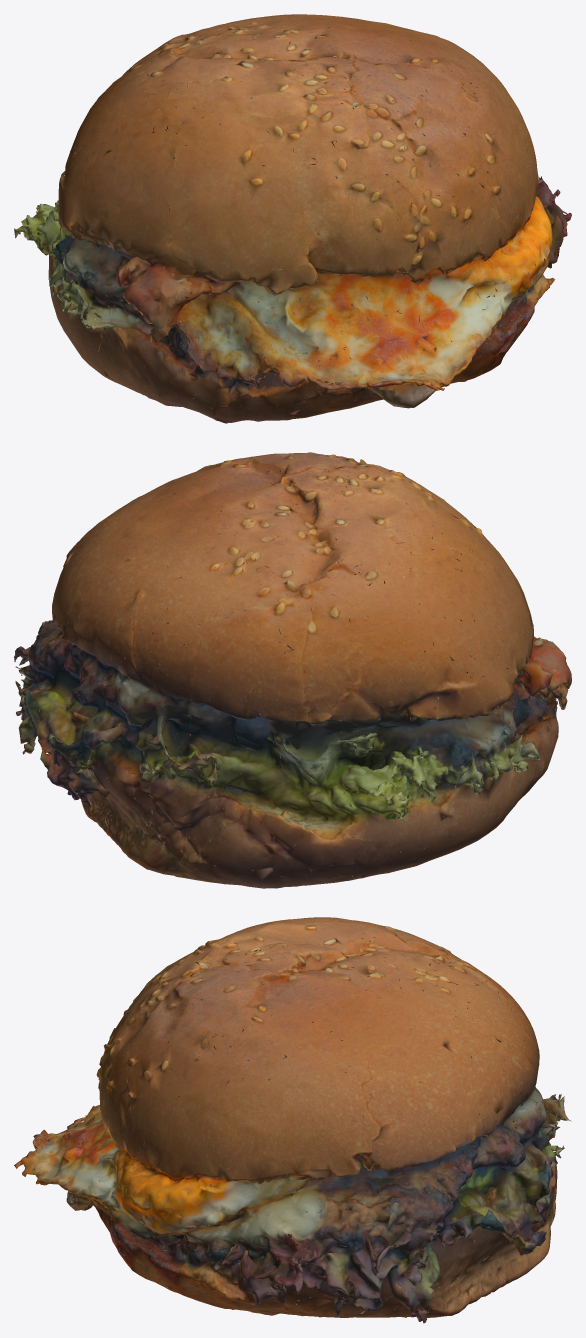
The model's file is burger-artesanal-8k.glb.
3 views of the same model, one above another, from view 1: azimuth 30°, elevation 25°; view 2: azimuth 150°, elevation 25°; view 3: azimuth 270°, elevation 25° (orthographic). The views are drawn at different scales.
Visible parts, largest first — view 1: Burger; view 2: Burger; view 3: Burger.
Part boxes in pixels (x1=…): Burger: x1=14, y1=14, x2=571, y2=423; Burger: x1=14, y1=452, x2=571, y2=888; Burger: x1=14, y1=917, x2=571, y2=1323.
Size of the model in its own units: 0.1332 by 0.0781 by 0.1347.
1 material, 1 textured.
